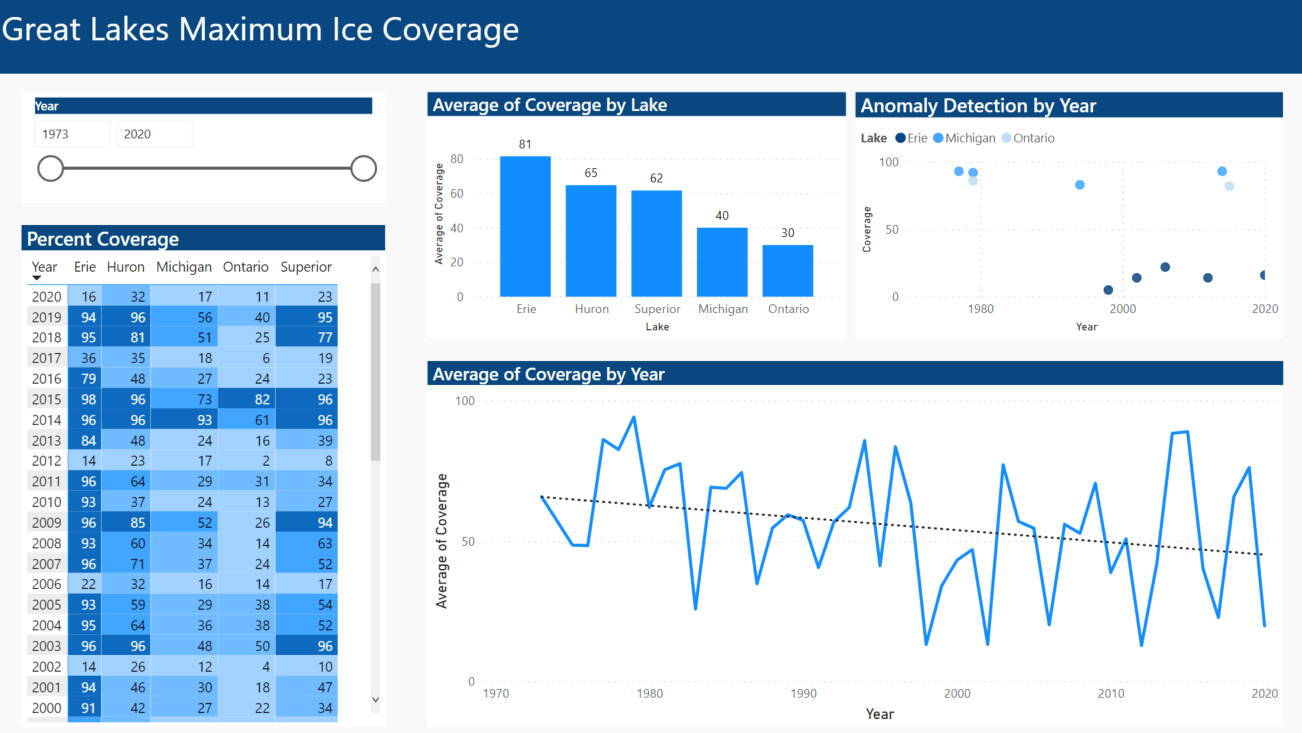

Layout of this report page (visuals, bound fields, positions):
{"tool":"powerbi","page":{"name":"Page 1","canvas":[1280,720],"ordinal":0},"visuals":[{"type":"pivotTable","title":"Percent Coverage","fields":{"Rows":["Sheet1.Year"],"Columns":["Sheet1.Lake"],"Values":["Sum(Sheet1.Coverage)"]},"box":[24.3,219.8,354,488.3],"z":0},{"type":"slicer","fields":{"Values":["Sheet1.Year"]},"box":[24.3,90.5,354,108],"z":1000},{"type":"textbox","box":[0,0,1280.2,72.8],"z":2000},{"type":"clusteredColumnChart","fields":{"Category":["Sheet1.Lake"],"Y":["Avg(Sheet1.Coverage)"]},"box":[419.2,90.5,407.5,239.3],"z":3000},{"type":"scatterChart","title":"Anomaly Detection by Year","fields":{"X":["Sheet1.Year"],"Y":["Sum(Sheet1.Coverage)"],"Series":["Sheet1.Lake"]},"box":[835.5,90.5,416.3,239.3],"z":4000},{"type":"lineChart","fields":{"Y":["Avg(Sheet1.Coverage)"],"Category":["Sheet1.Year"]},"box":[419.2,352.1,832.6,356],"z":4001}]}

Visuals, with their boxes in screenshot pixels (x1, y1, x2, y2), scaled from the page's 1280x720 canvas onto the 1302x733 screenshot:
"Percent Coverage" pivotTable: (25,224,385,721)
slicer - Sheet1.Year: (25,92,385,202)
textbox: (0,0,1301,74)
clusteredColumnChart - Sheet1.Lake x Avg(Sheet1.Coverage): (426,92,841,336)
"Anomaly Detection by Year" scatterChart: (850,92,1273,336)
lineChart - Avg(Sheet1.Coverage) x Sheet1.Year: (426,358,1273,721)
